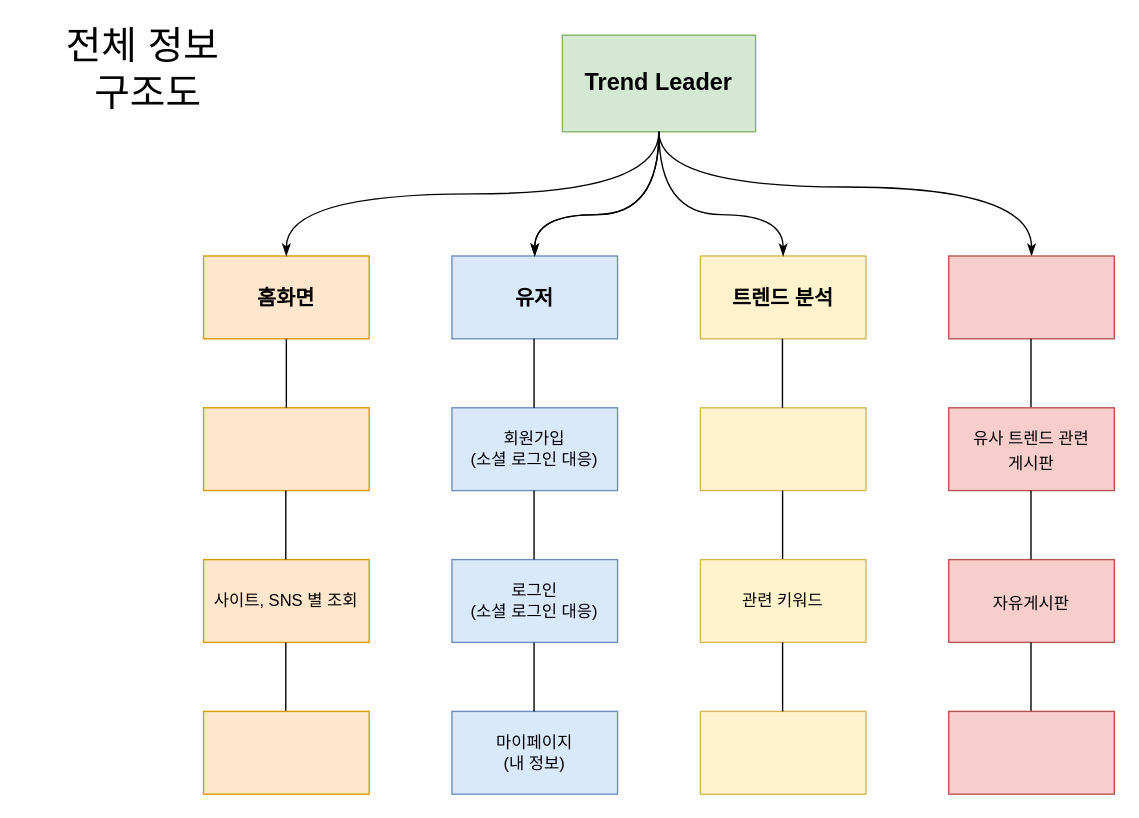
The diagram is 1139 pixels wide and 818 high, and some of its shapes have lost their labels. The centre of each missing label's shape, as x and y in pixels:
AI 기반 분석: point (782, 448)
날짜별 조회: point (285, 752)
다양한 정보들: point (782, 752)
댓글 등 CRUD: point (1030, 752)
최근 인기 검색어 조회: point (285, 448)
커뮤니티: point (1030, 297)
